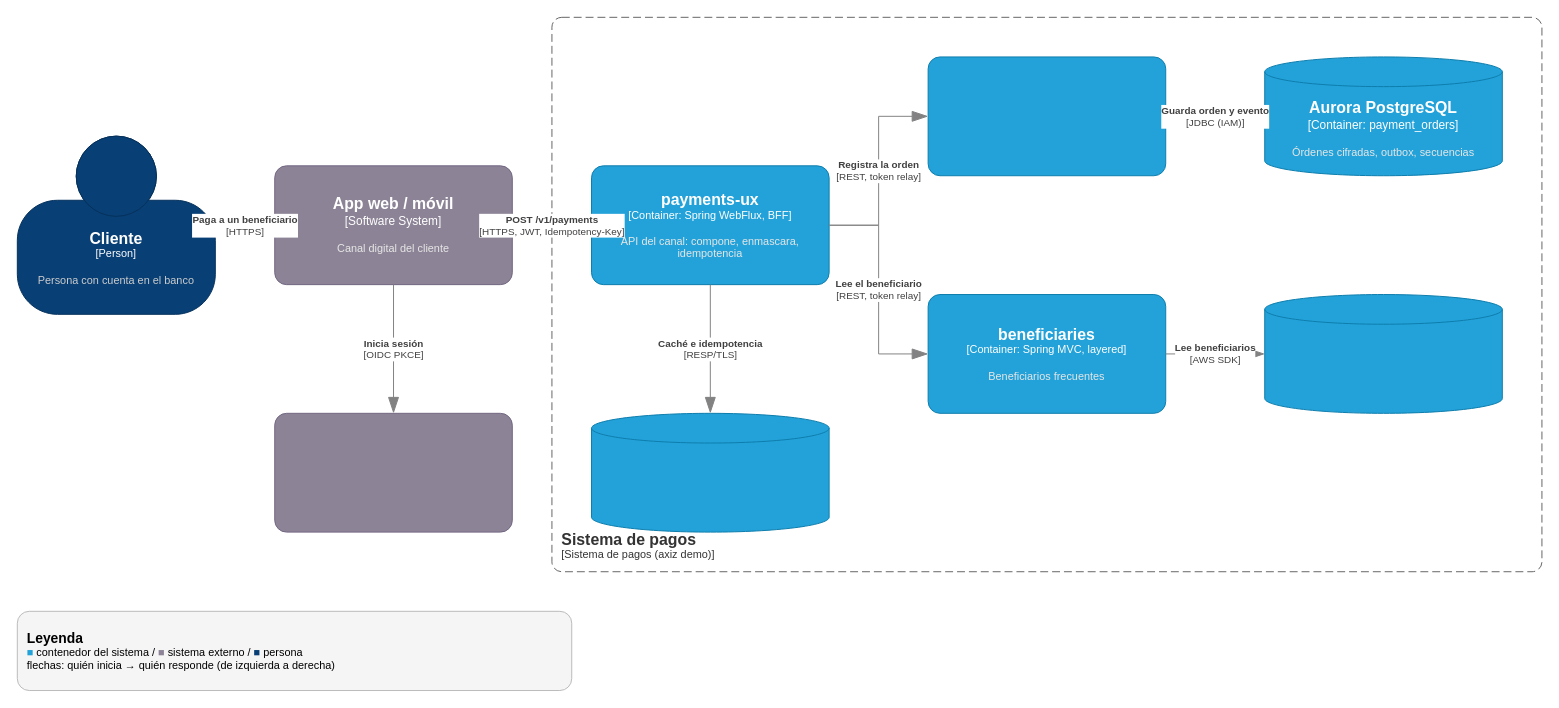
This 1559x708 diagram has some shape labels left out. The shapes that lost their labels are listed below. From the top down, each one's box as (x1, y1, x2, y2) in pixels, then its label:
(927, 56, 1166, 176): payment-orders [Container: Spring MVC, CQRS] Dueño de las órdenes de pago
(1264, 294, 1502, 413): DynamoDB [Container: beneficiaries] Beneficiarios con borrado lógico
(274, 412, 512, 532): Keycloak / IdP [Software System] Emite tokens OIDC (sub = id de cliente)
(591, 412, 829, 532): ElastiCache [Container: Valkey] Caché L2 e idempotencia
